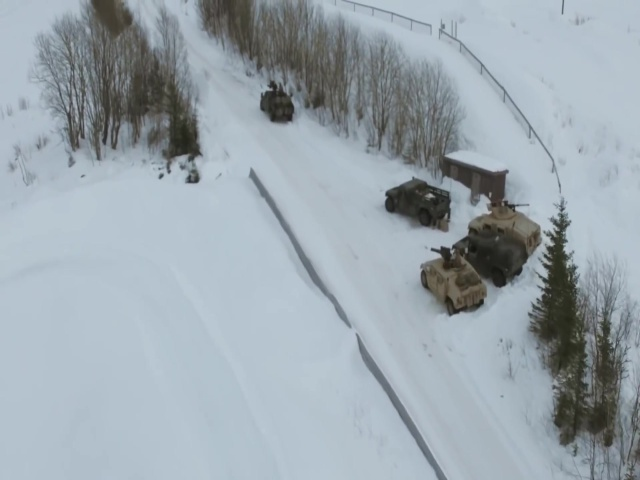vehicle: (419, 251, 487, 315), (469, 201, 545, 254), (457, 236, 530, 285), (384, 180, 454, 224), (257, 82, 295, 127)
